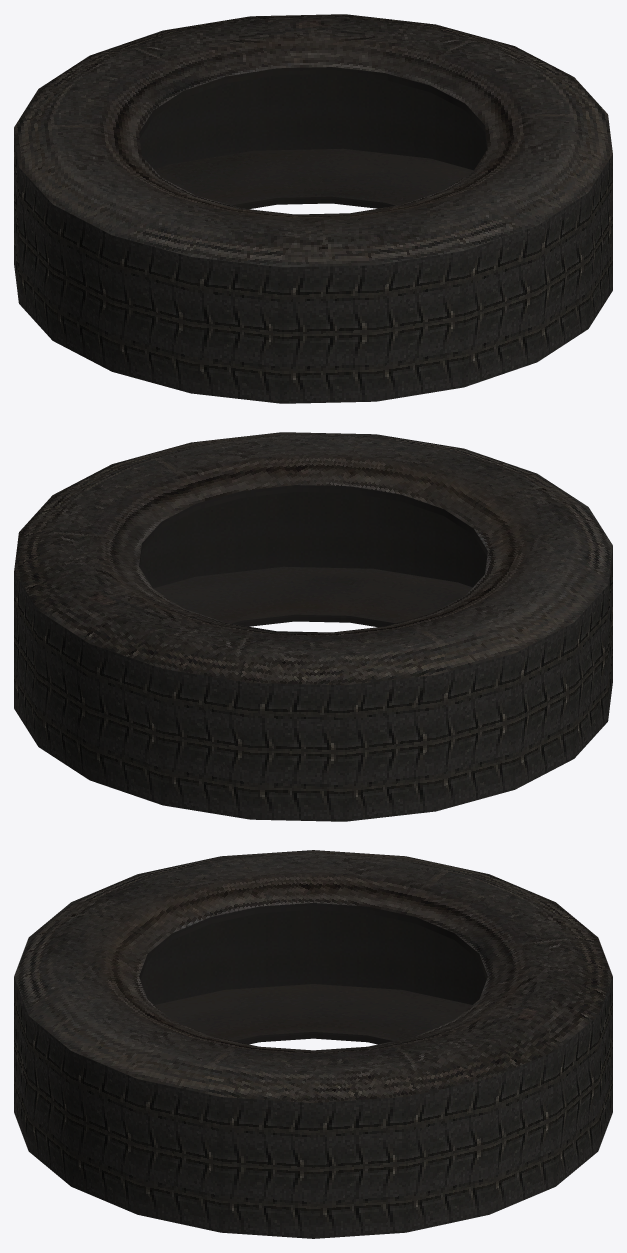
File: tire_1.glb
3 renders of one model, top to bottom at view 1: azimuth 30°, elevation 25°; view 2: azimuth 150°, elevation 25°; view 3: azimuth 270°, elevation 25°, orthographic.
Visible parts, largest first — view 1: tire_1; view 2: tire_1; view 3: tire_1.
Part boxes in pixels (x1,y1,x2,y2): tire_1: [14, 14, 612, 403]; tire_1: [14, 432, 612, 821]; tire_1: [14, 850, 612, 1238].
Bounding box in the file's own units: 0.8 × 0.2366 × 0.8.
1 material, 1 textured.
